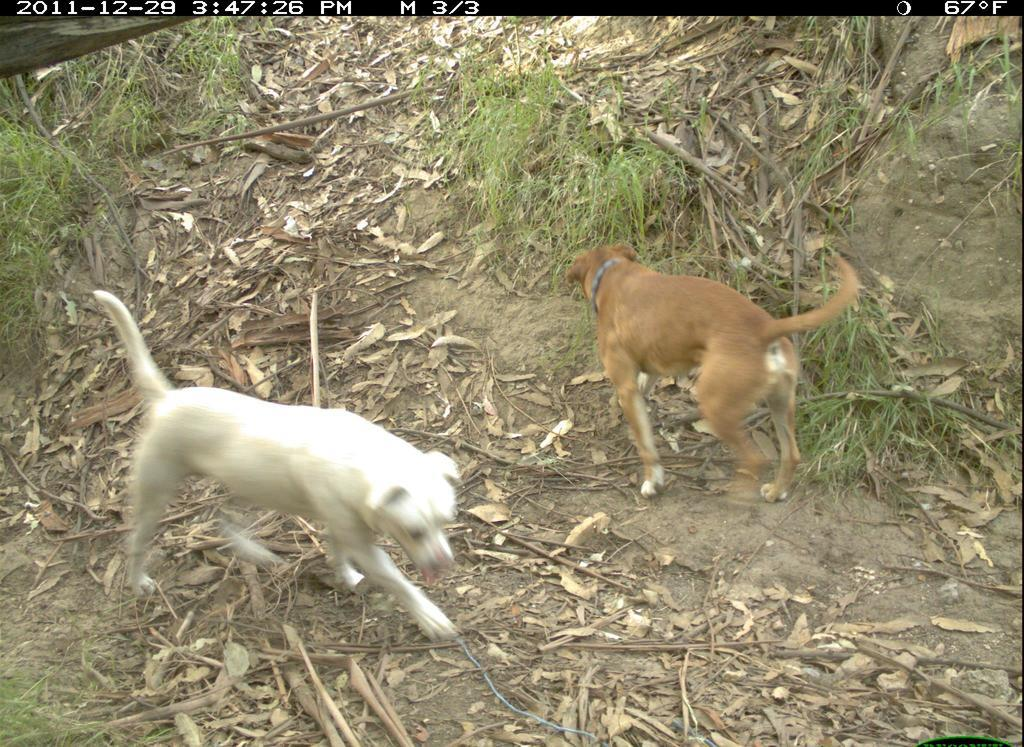dog: (77, 283, 475, 653), (566, 231, 877, 515)
